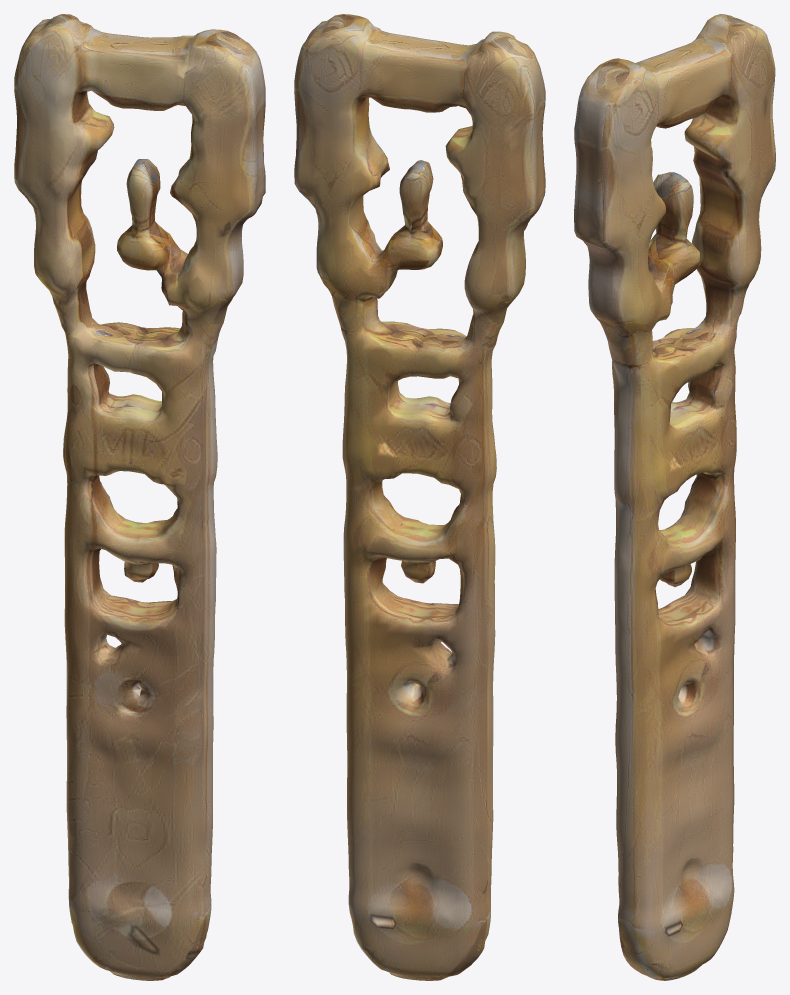
The picture shows the model from 3 angles, left to right: view 1: azimuth 30°, elevation 25°; view 2: azimuth 210°, elevation 25°; view 3: azimuth 270°, elevation 25°; orthographic projection.
Bounding box in the file's own units: 0.1967 × 1 × 0.1971.
1 material, 1 textured.
